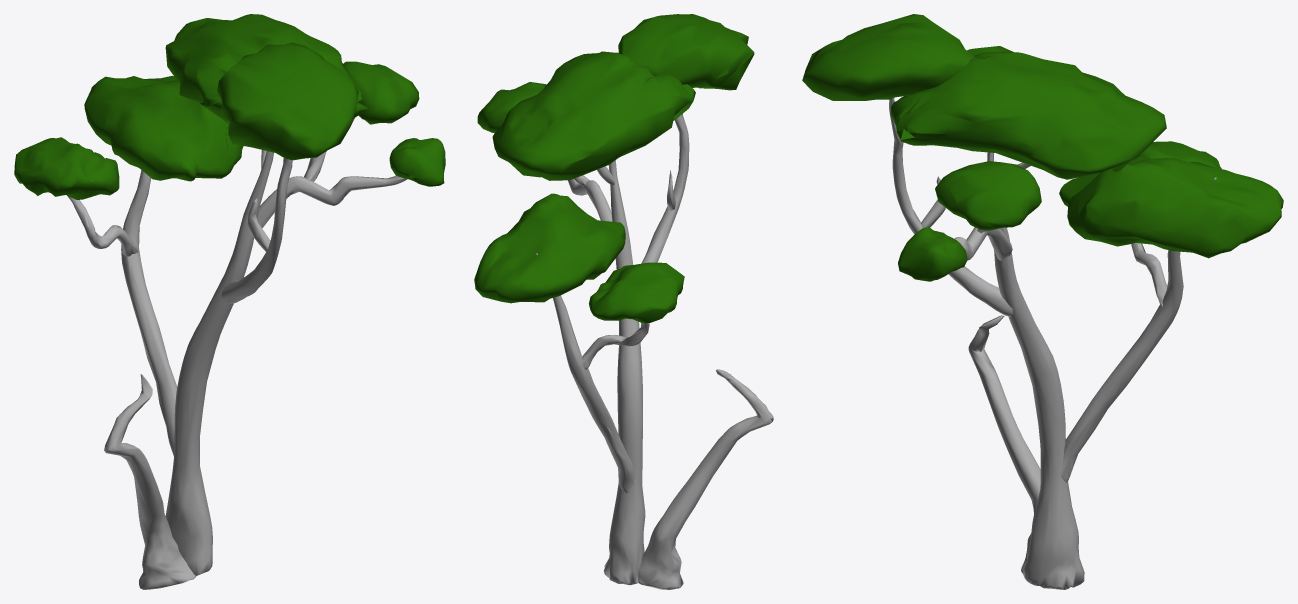
The model's file is AfricaTree05.fbx.
3 renders of one model, left to right at view 1: azimuth 30°, elevation 25°; view 2: azimuth 150°, elevation 25°; view 3: azimuth 270°, elevation 25°, orthographic. The views are drawn at different scales.
Parts seen in each view (by area): view 1: Leaves, Trunk; view 2: Leaves, Trunk; view 3: Leaves, Trunk.
Boxes of the visible parts, box(x1,y1,x2,y2) form: Leaves: box(14, 14, 445, 199); Trunk: box(67, 118, 407, 589); Leaves: box(474, 14, 754, 323); Trunk: box(536, 113, 773, 589); Leaves: box(802, 14, 1283, 281); Trunk: box(889, 98, 1216, 589).
Bounding box in the file's own units: 192 × 325 × 249.
